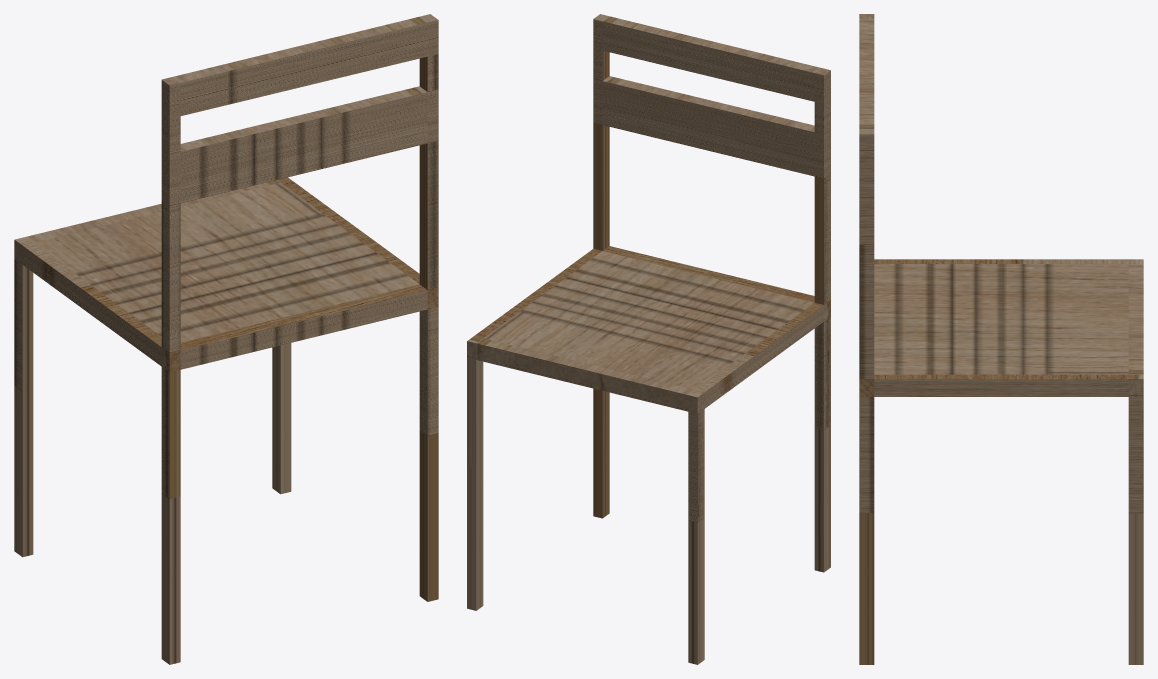
The model's file is silla-mercado.glb.
3 renders of one model, left to right at view 1: azimuth 30°, elevation 25°; view 2: azimuth 150°, elevation 25°; view 3: azimuth 270°, elevation 25°, orthographic. The views are drawn at different scales.
Visible parts, largest first — view 1: Cube; view 2: Cube; view 3: Cube.
Part boxes in pixels (x1,y1,x2,y2): Cube: (14, 14, 438, 664); Cube: (467, 14, 830, 664); Cube: (859, 14, 1143, 664).
Size of the model in its own units: 1.53 by 3.14 by 1.53.
1 material, 1 textured.
